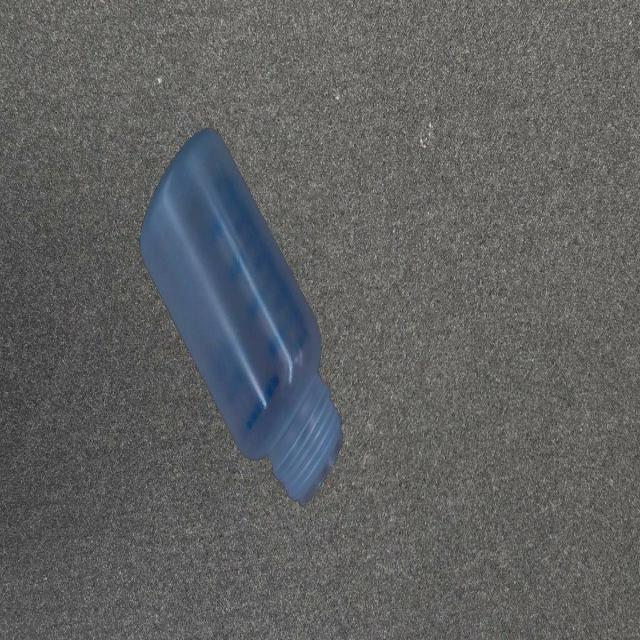bottle: (136, 121, 348, 512)
